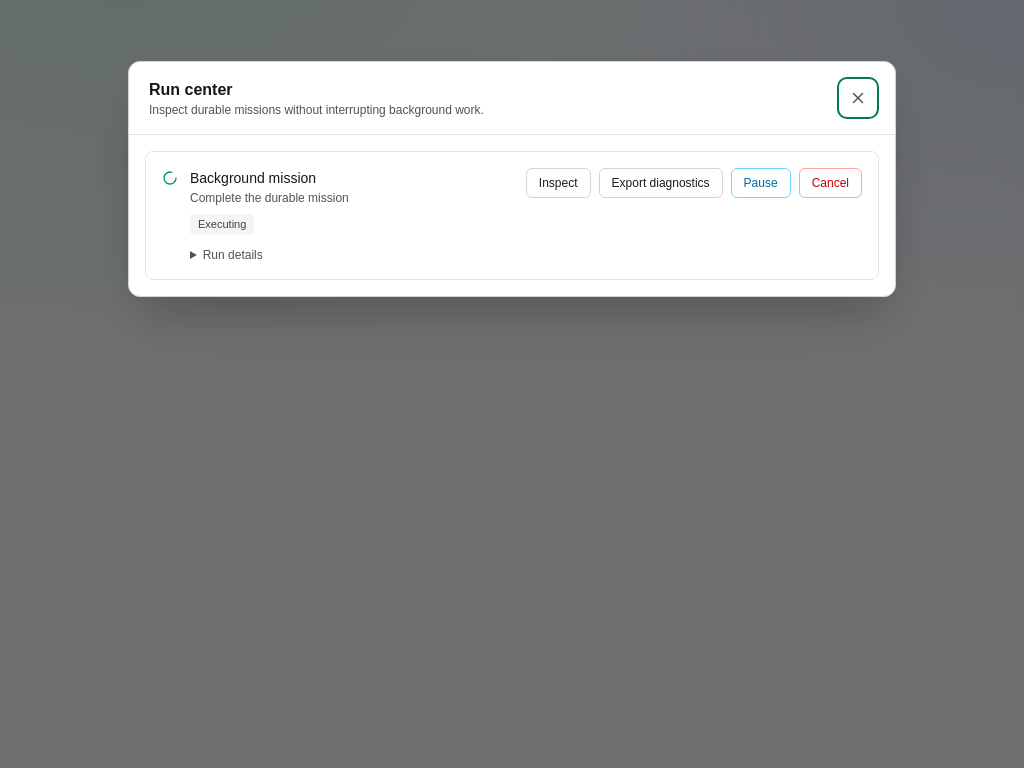
Test case: RunCenter › shows progress, budget, evidence, and artifact details
The image size is (1024, 768).
Click the heading "Run details" at (233, 255), box [203, 248, 263, 262]
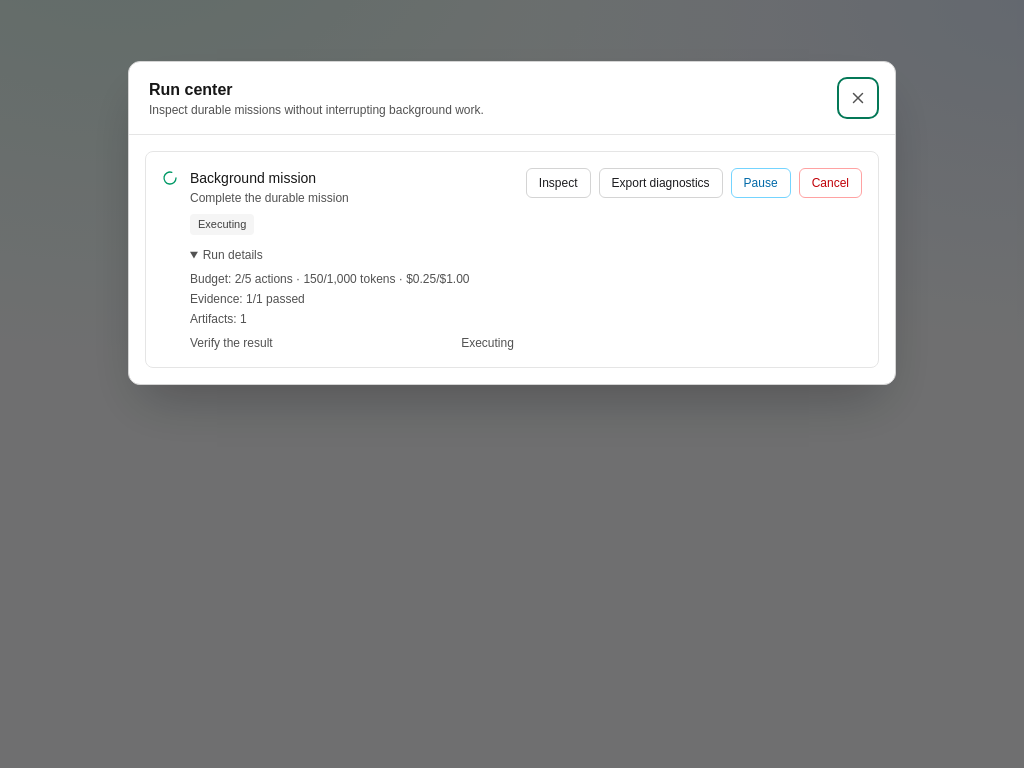
Expected: the text "2/5 actions · 150/1,000 tokens · $0.25/$1.00" is shown, [235, 272, 470, 286]
Expected: the text "1/1 passed" is shown, [246, 292, 305, 306]
Expected: the text "Verify the result" is shown, [190, 335, 273, 351]
